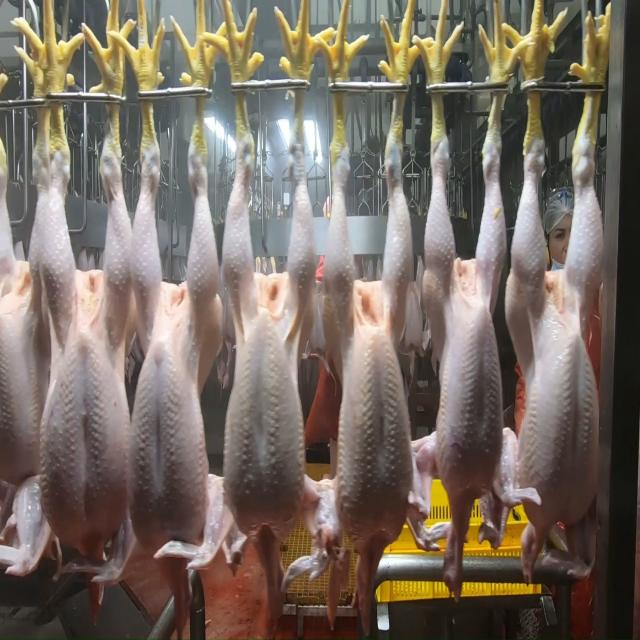chicken: (120, 128, 224, 550), (226, 112, 320, 568), (506, 113, 610, 523), (318, 112, 415, 547), (42, 122, 135, 546), (424, 106, 512, 498), (0, 137, 54, 504)
